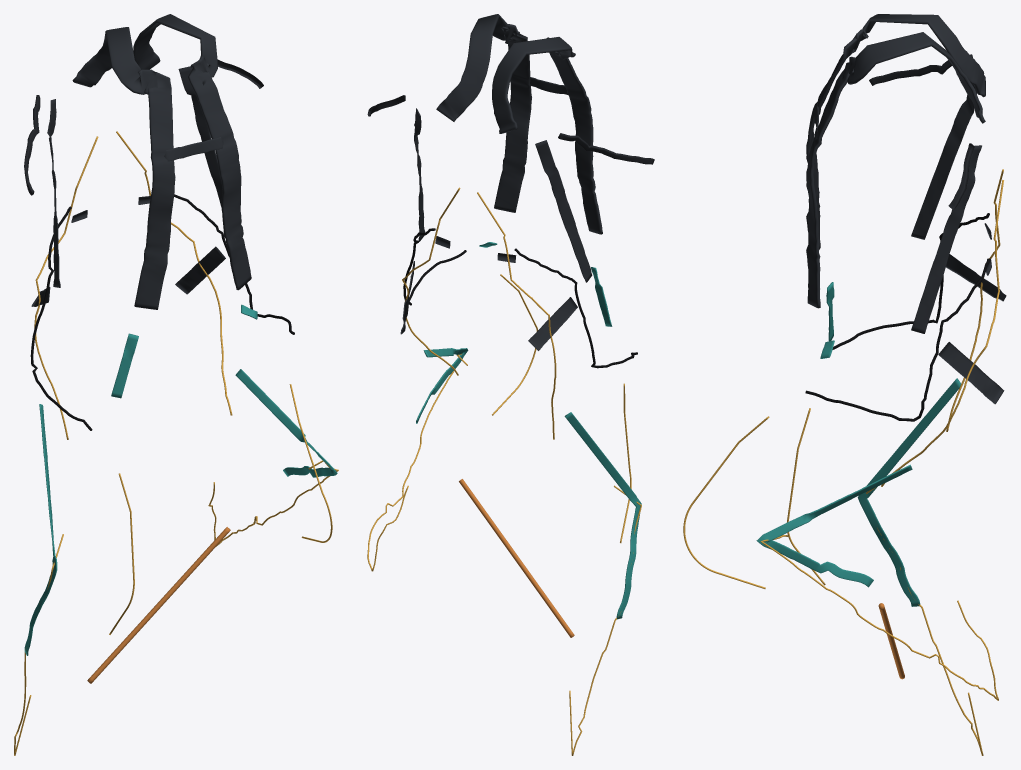
Rendered from sitka_cables_run.glb.
3 renders of one model, left to right at view 1: azimuth 30°, elevation 25°; view 2: azimuth 150°, elevation 25°; view 3: azimuth 270°, elevation 25°, orthographic. The views are drawn at different scales.
Parts seen in each view (by area): view 1: harness_r, harness_l, hamstring_band_l, running_band, crazycreek_l, hamstring_band_r, crazycreek_r, cupstrap_l, bowden_r, m3_band_r, t3_tendon_r, sternum_strap (+2 smaller); view 2: harness_l, harness_r, hamstring_band_r, crazycreek_r, running_band, cupstrap_r, hamstring_band_l, m5_lever_r, bowden_r, t3_tendon_r, crazycreek_l, bowden_l (+1 smaller); view 3: harness_l, harness_r, hamstring_band_r, crazycreek_l, hamstring_band_l, crazycreek_r, cupstrap_l, bowden_l, t3_tendon_l, cupstrap_r, calf_band_l, m5_lever_r (+3 smaller).
Part boxes in pixels (bbox=[...]): harness_r: bbox=[72, 27, 175, 309]; harness_l: bbox=[133, 14, 251, 290]; hamstring_band_l: bbox=[235, 369, 337, 477]; running_band: bbox=[87, 527, 230, 683]; crazycreek_l: bbox=[178, 66, 222, 207]; hamstring_band_r: bbox=[24, 404, 57, 655]; crazycreek_r: bbox=[47, 99, 60, 287]; cupstrap_l: bbox=[175, 246, 225, 294]; bowden_r: bbox=[30, 206, 92, 430]; m3_band_r: bbox=[111, 333, 138, 398]; t3_tendon_r: bbox=[34, 136, 98, 439]; sternum_strap: bbox=[164, 137, 223, 161]; harness_l: bbox=[436, 14, 531, 212]; harness_r: bbox=[492, 37, 602, 234]; hamstring_band_r: bbox=[564, 412, 641, 619]; crazycreek_r: bbox=[535, 140, 592, 282]; running_band: bbox=[459, 479, 574, 637]; cupstrap_r: bbox=[528, 297, 577, 350]; hamstring_band_l: bbox=[416, 348, 468, 423]; m5_lever_r: bbox=[558, 133, 654, 164]; bowden_r: bbox=[514, 248, 637, 368]; t3_tendon_r: bbox=[477, 192, 556, 439]; crazycreek_l: bbox=[414, 108, 425, 241]; bowden_l: bbox=[403, 228, 466, 305]; harness_l: bbox=[806, 32, 985, 308]; harness_r: bbox=[806, 14, 985, 249]; hamstring_band_r: bbox=[857, 378, 960, 606]; crazycreek_l: bbox=[911, 145, 981, 333]; hamstring_band_l: bbox=[756, 464, 912, 587]; crazycreek_r: bbox=[911, 84, 977, 239]; cupstrap_l: bbox=[938, 342, 1004, 404]; bowden_l: bbox=[805, 258, 989, 421]; t3_tendon_l: bbox=[881, 180, 1003, 486]; cupstrap_r: bbox=[946, 254, 1006, 301]; calf_band_l: bbox=[760, 535, 998, 700]; m5_lever_r: bbox=[869, 54, 972, 85].
Bounding box in the file's own units: 0.5827 × 1.5 × 0.5617.
